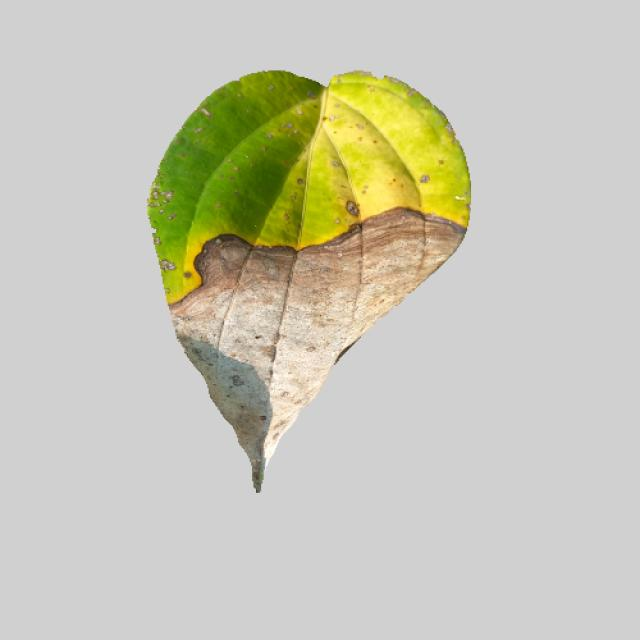leaf-blight: (132, 69, 480, 495)
